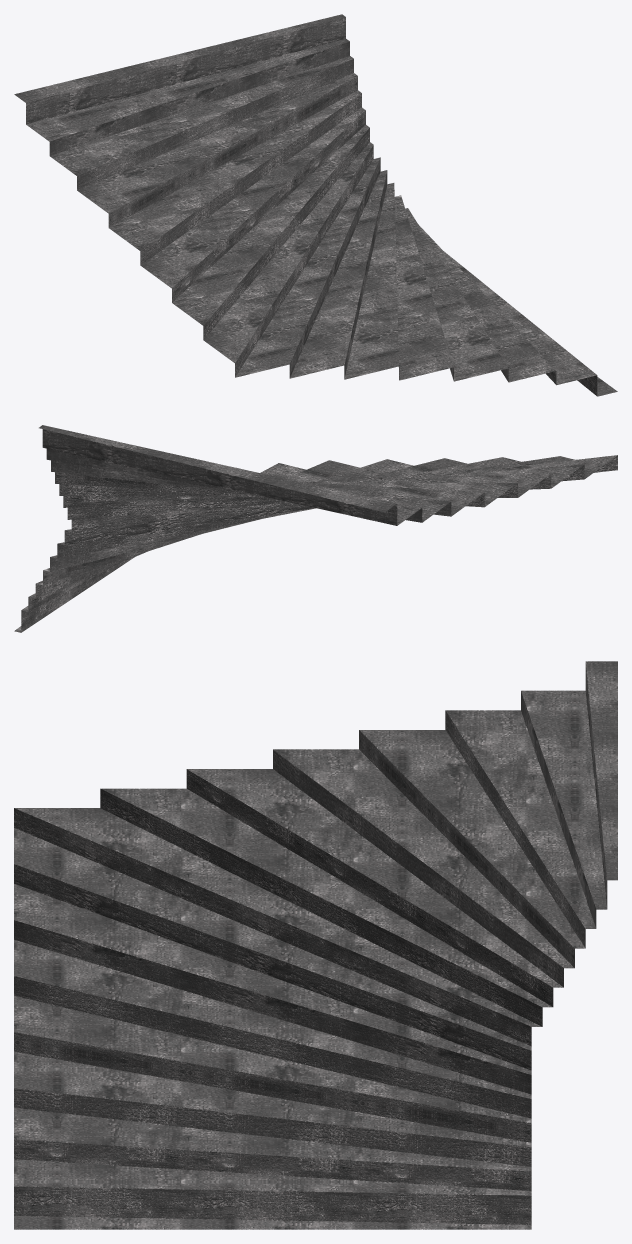
File: crypt_stair_00.FBX
3 renders of one model, top to bottom at view 1: azimuth 30°, elevation 25°; view 2: azimuth 150°, elevation 25°; view 3: azimuth 270°, elevation 25°, orthographic. The views are drawn at different scales.
Parts seen in each view (by area): view 1: stair; view 2: stair; view 3: stair.
Boxes of the visible parts, x1=… form: stair: x1=14, y1=14, x2=617, y2=396; stair: x1=14, y1=425, x2=617, y2=632; stair: x1=14, y1=661, x2=617, y2=1229.
Size of the model in its own units: 448 by 448 by 256.
